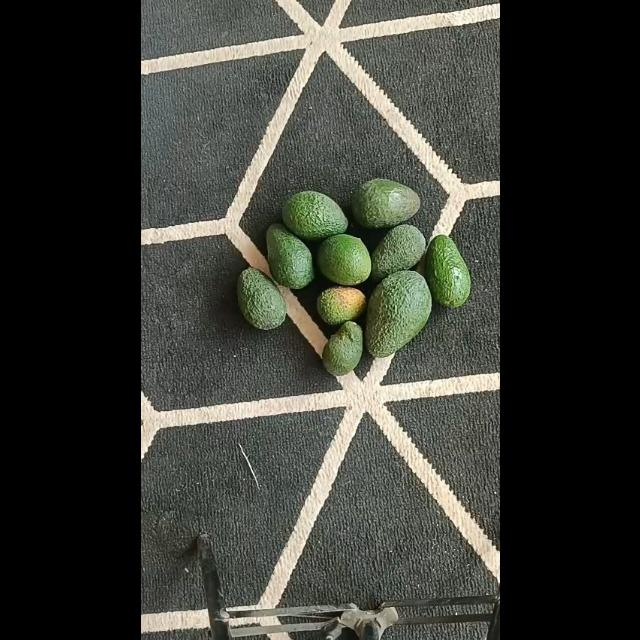Primera: (364, 270, 431, 358)
Segunda: (350, 178, 420, 230), (424, 235, 471, 308), (280, 190, 348, 240), (264, 223, 314, 289), (315, 232, 371, 286)
Tercera: (369, 223, 426, 280), (235, 268, 285, 330), (322, 321, 362, 375), (316, 284, 366, 326)
